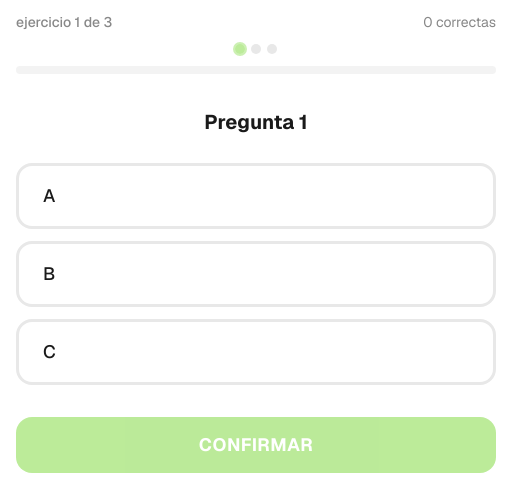
Scenario: LessonFlow › muestra la pantalla de completado al terminar todos los ejercicios
Click the button "A".
click(49, 195)  # box [16,162,496,228]
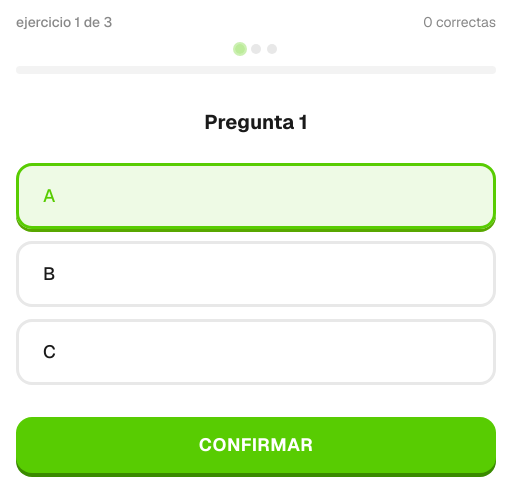
Click the button "confirmar".
click(256, 444)  # box [16,416,496,472]
Wait 600 ms
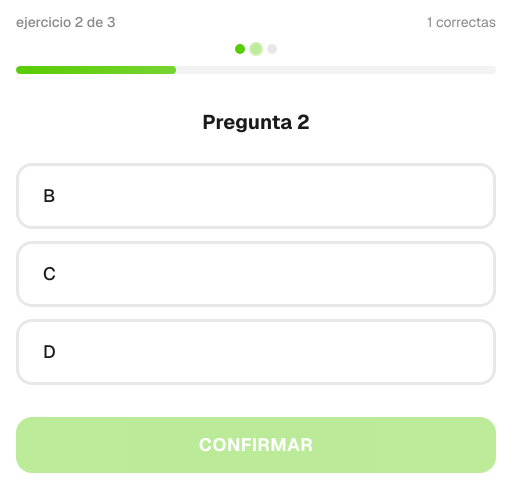
Click the button "B".
click(49, 195)  # box [16,162,496,228]
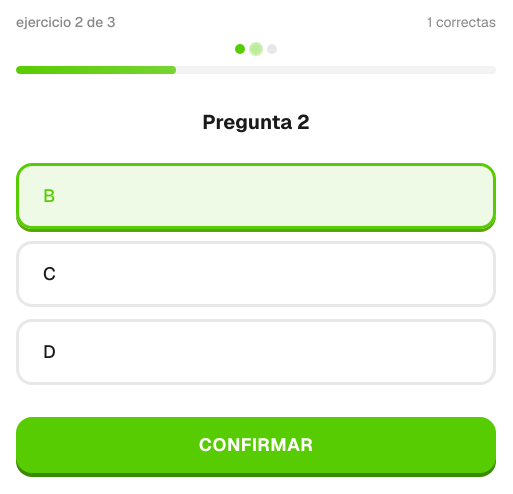
Click the button "confirmar".
click(256, 444)  # box [16,416,496,472]
Wait 600 ms
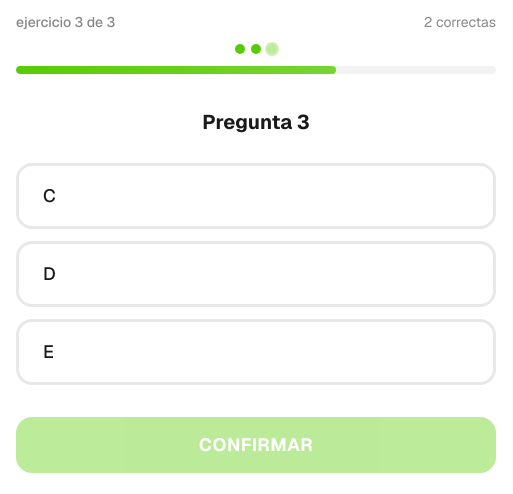
Click the button "C".
click(49, 195)  # box [16,162,496,228]
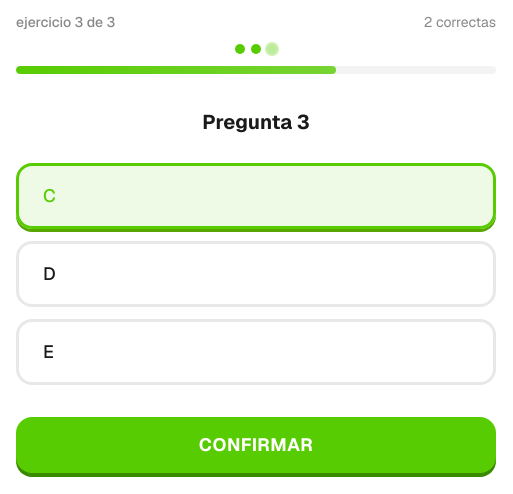
Click the button "confirmar".
click(256, 444)  # box [16,416,496,472]
Wait 600 ms
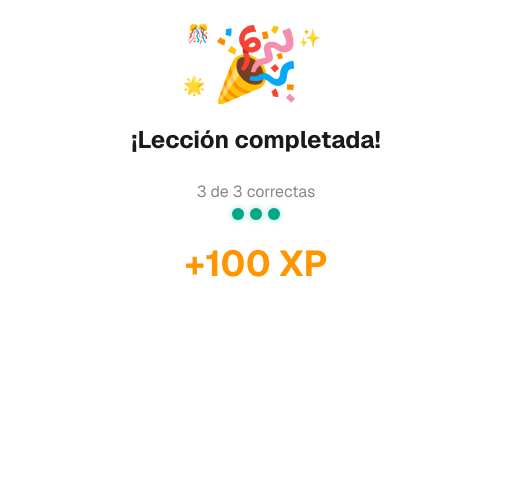
Expected: the heading "¡Lección completada!" is shown, [131,124,381,156]
Expected: the text "3 de 3 correctas" is shown, [197,180,315,204]
Expected: the text "+100 XP" is shown, [184,244,328,284]
